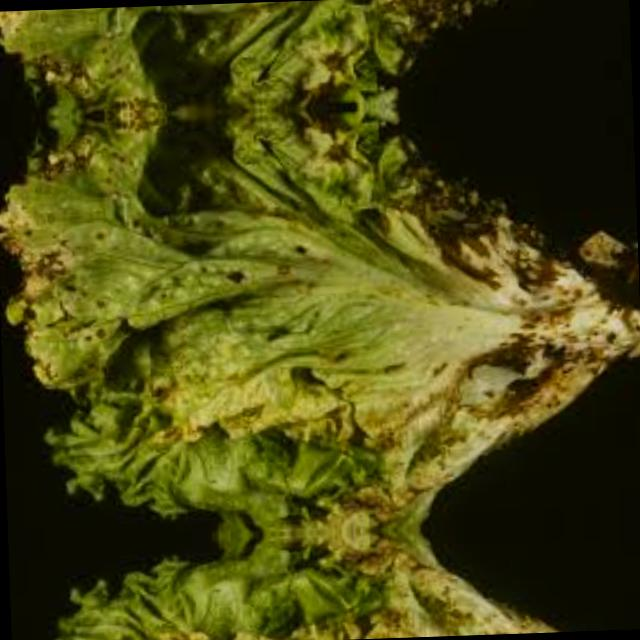Lettuce - Anthracnose: (0, 98, 640, 542), (8, 520, 640, 640), (0, 0, 632, 116)
